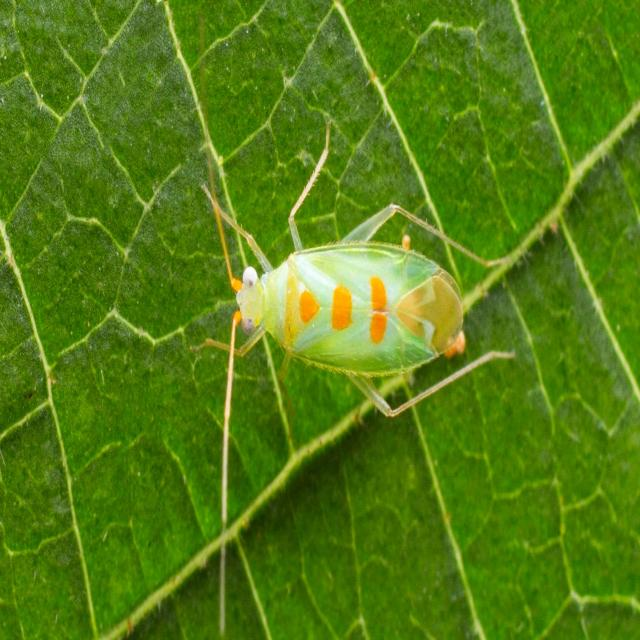Yechan: (199, 160, 516, 420)
